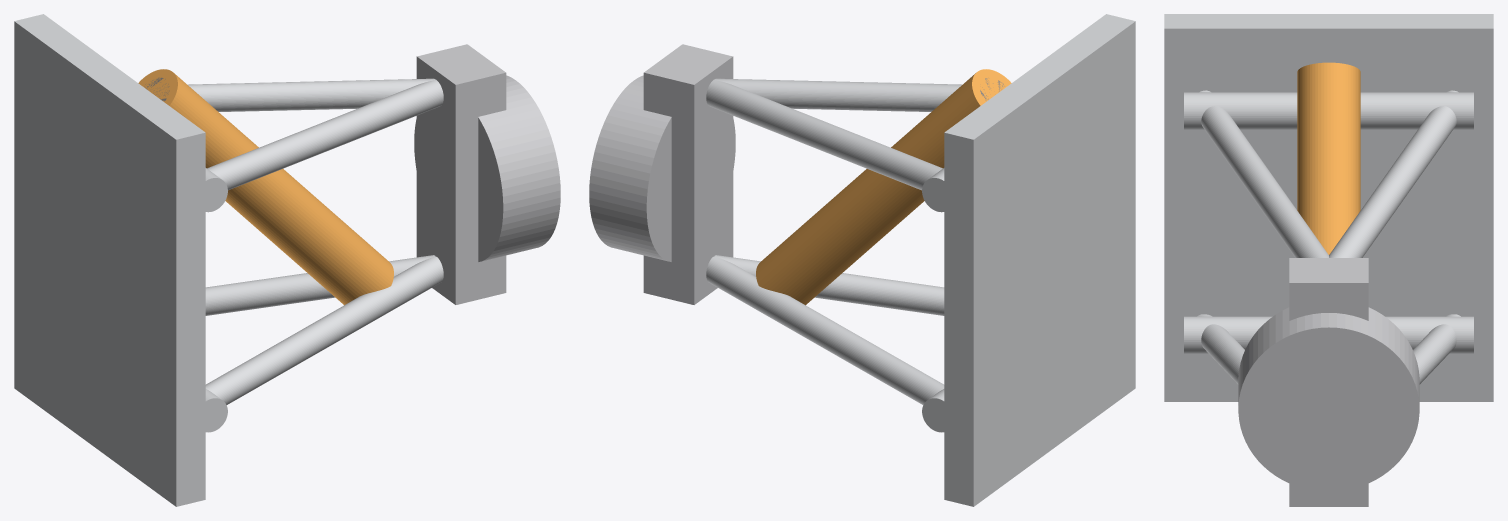
Rendered from rover17_suspension_arm_s.glb.
The picture shows the model from 3 angles, left to right: view 1: azimuth 30°, elevation 25°; view 2: azimuth 150°, elevation 25°; view 3: azimuth 270°, elevation 25°; orthographic projection.
Visible parts, largest first — view 1: mount_plate, arm_upright, spring, arm_upper, arm_lower; view 2: mount_plate, arm_upright, spring, arm_upper, arm_lower; view 3: mount_plate, arm_upright, arm_upper, spring, arm_lower.
Boxes of the visible parts, x1,y1,x2,y2 form: mount_plate: [14, 14, 205, 506]; arm_upright: [414, 44, 560, 304]; spring: [138, 69, 393, 305]; arm_upper: [188, 78, 443, 212]; arm_lower: [205, 255, 443, 432]; mount_plate: [944, 14, 1135, 506]; arm_upright: [589, 44, 735, 304]; spring: [756, 69, 1011, 305]; arm_upper: [706, 78, 961, 212]; arm_lower: [706, 255, 944, 432]; mount_plate: [1164, 14, 1493, 401]; arm_upright: [1238, 258, 1419, 506]; arm_upper: [1184, 90, 1473, 257]; spring: [1297, 62, 1360, 254]; arm_lower: [1184, 314, 1473, 384].
Bounding box in the file's own units: 0.3 × 0.25 × 0.2.
